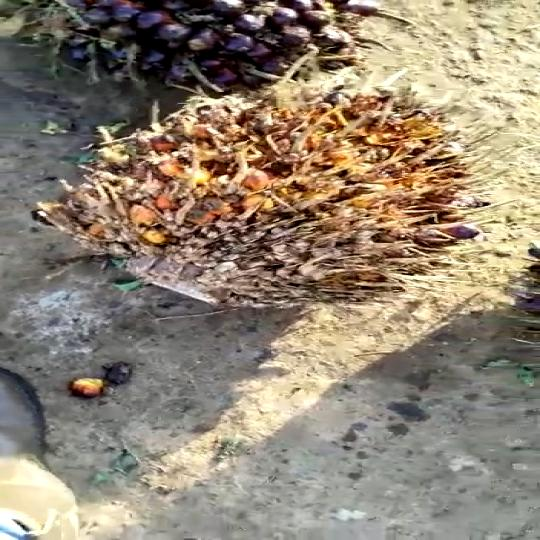terlalu masak: (44, 66, 497, 340)
